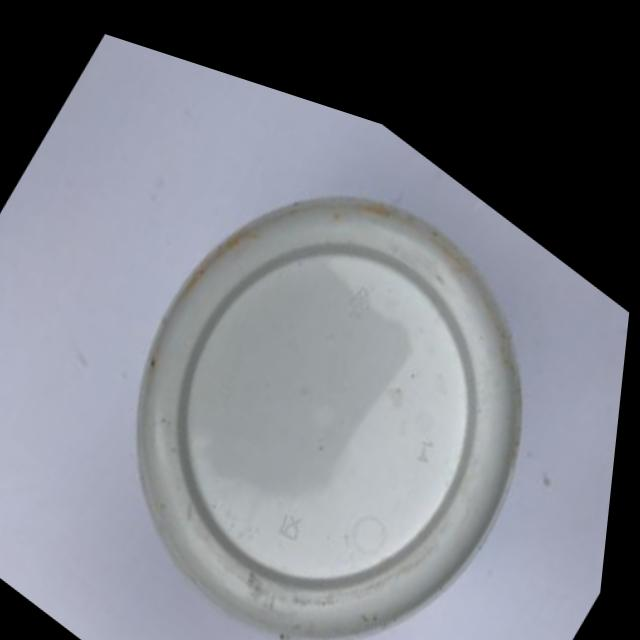plastic: (26, 20, 630, 640)
